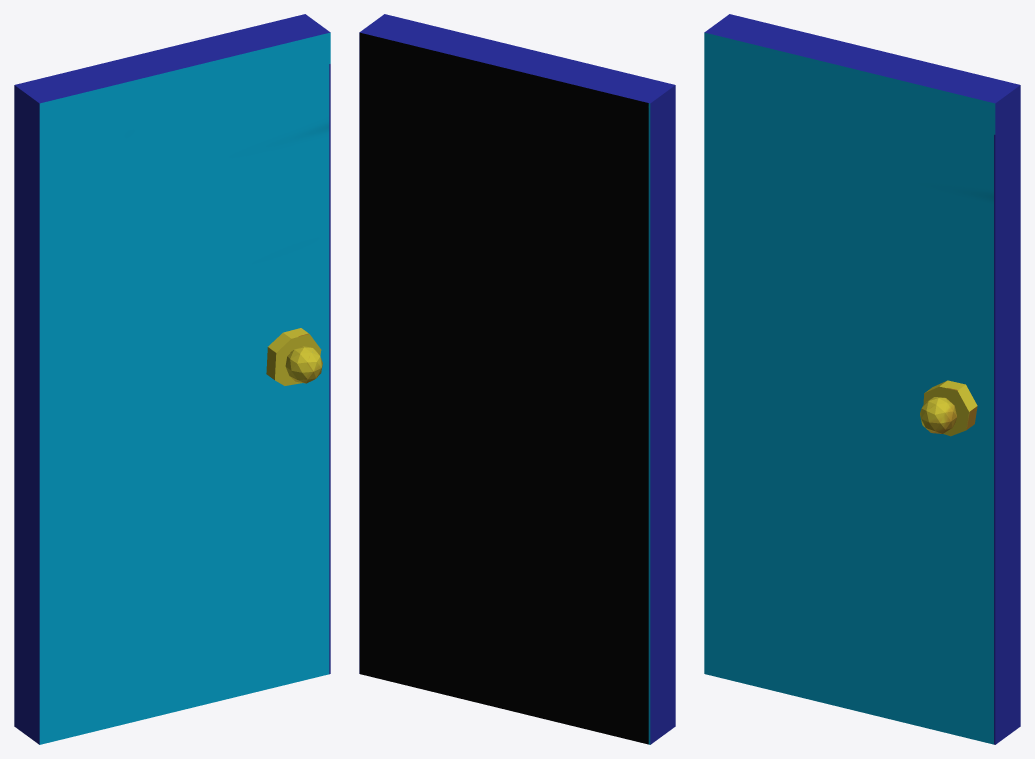
File: door.dae
3 renders of one model, left to right at view 1: azimuth 30°, elevation 25°; view 2: azimuth 150°, elevation 25°; view 3: azimuth 330°, elevation 25°, orthographic.
Parts seen in each view (by area): view 1: Cube, Cube.001, Icosphere; view 2: Cube; view 3: Cube, Cube.001, Icosphere.
Boxes of the visible parts, x1,y1,x2,y2 form: Cube: (14,14,330,744); Cube.001: (266,328,321,385); Icosphere: (285,346,322,383); Cube: (359,14,675,744); Cube: (704,14,1020,744); Cube.001: (923,380,977,436); Icosphere: (920,397,956,433).
Size of the model in its own units: 2.81 by 0.8382 by 5.93.
Materials: 1 (1 with a texture image).
